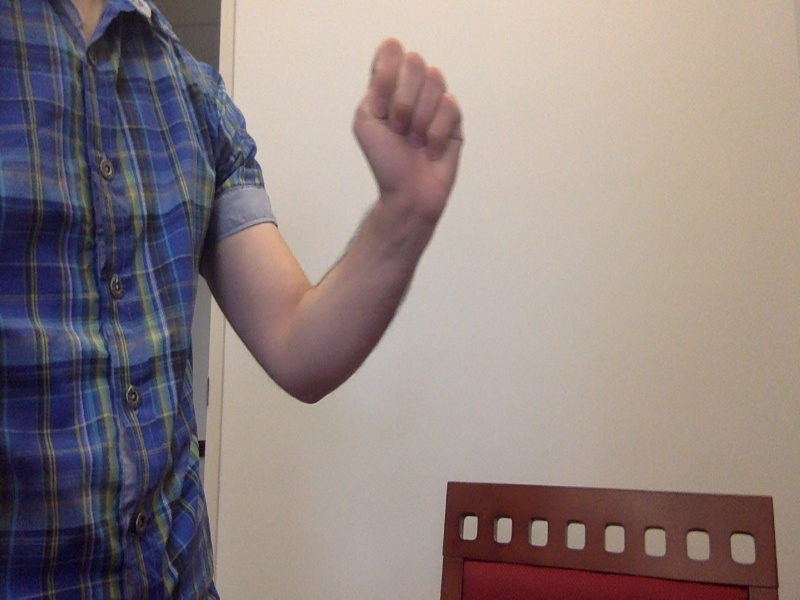0-hand: (353, 35, 468, 203)
